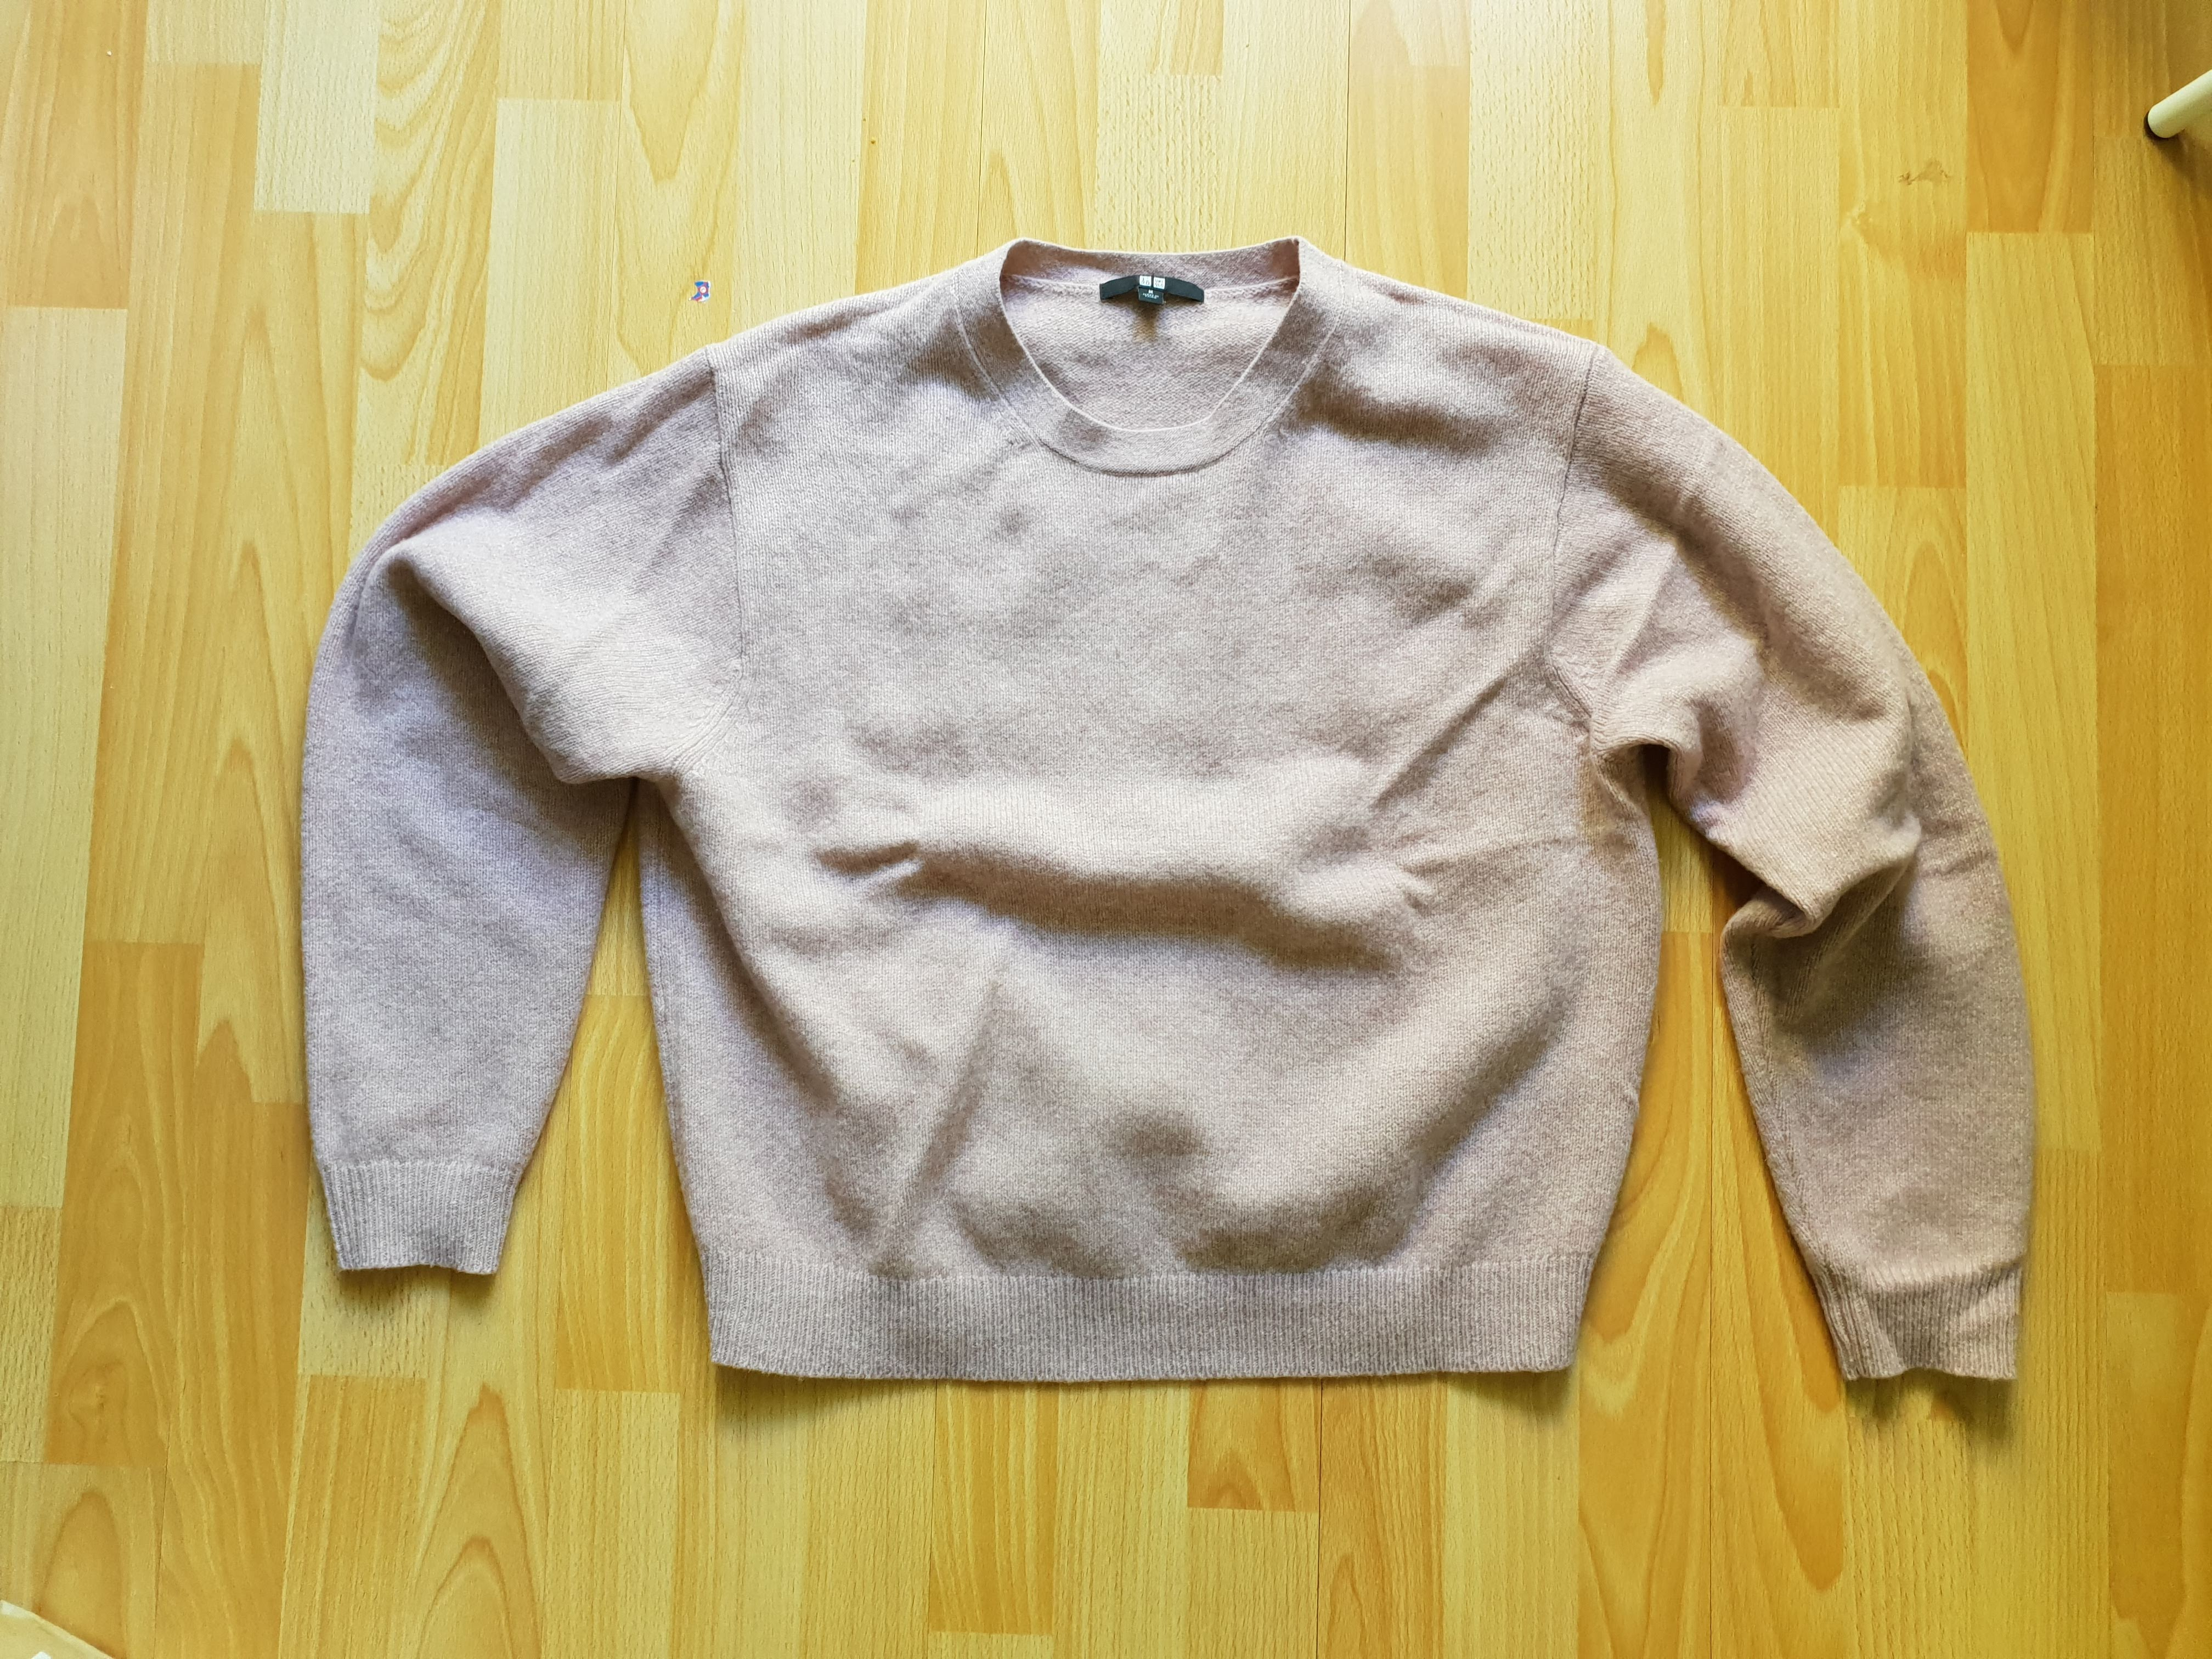clothes: (315, 218, 2029, 1413)
